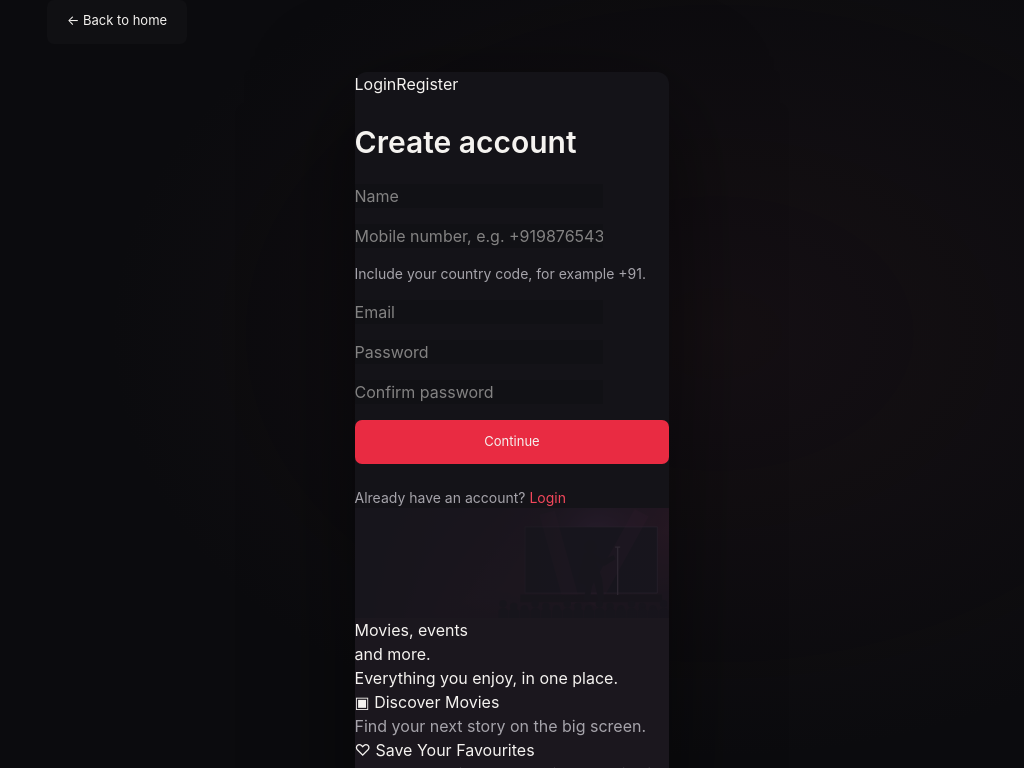
Test case: collects details first, verifies OTP on the server and requires login after success
In the field labelled "Name": (478, 196) x1=354 y1=184 x2=602 y2=208, type "Cinema Fan"
In the field labelled "Mobile number": (478, 236) x1=354 y1=224 x2=602 y2=248, type "+919876543210"
In the field labelled "Email": (478, 312) x1=354 y1=300 x2=602 y2=324, type "new@example.com"
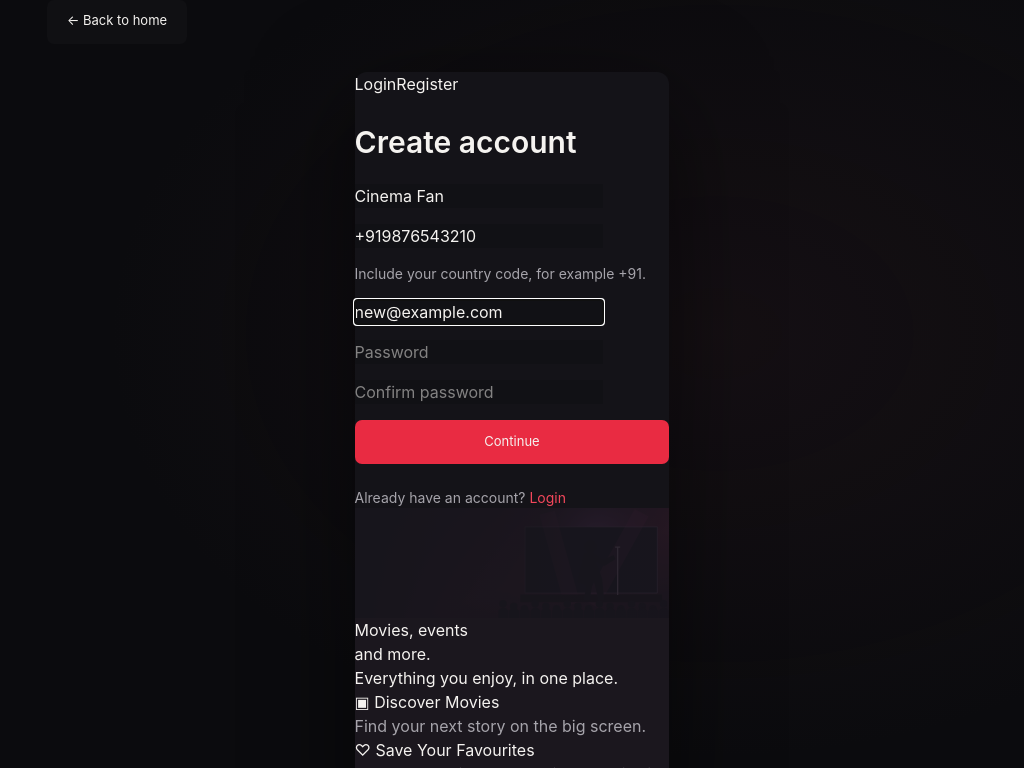
In the password field labelled "Password": (478, 352) x1=354 y1=340 x2=602 y2=364, type "safe-password-123"
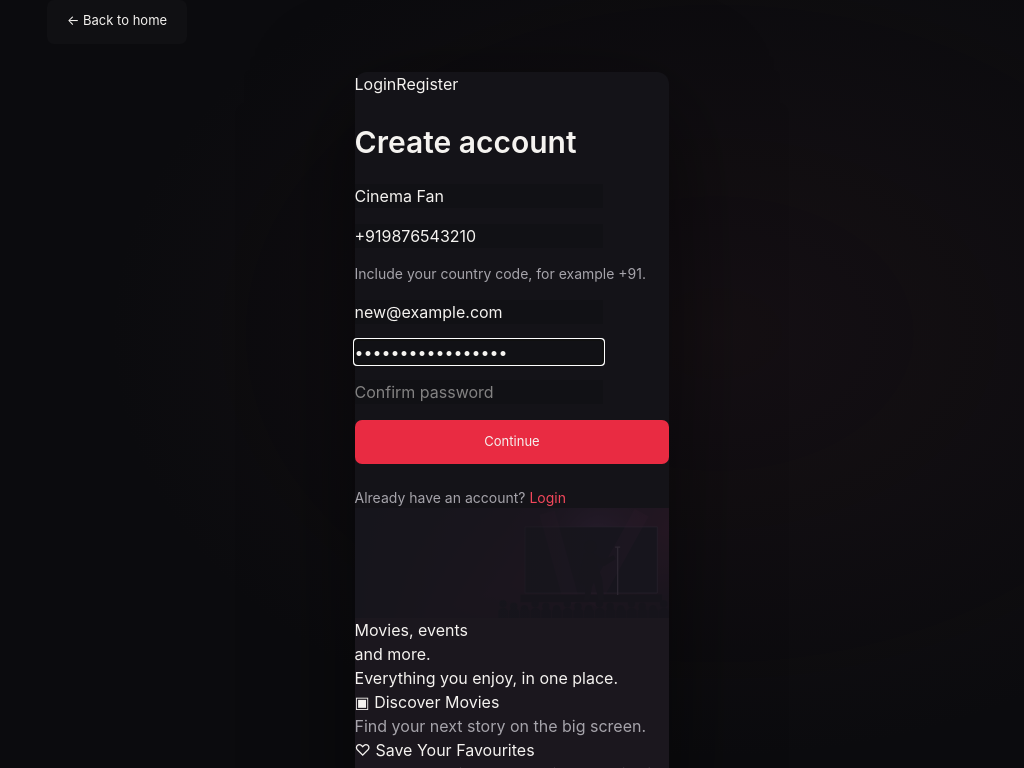
In the password field labelled "Confirm password": (478, 392) x1=354 y1=380 x2=602 y2=404, type "safe-password-123"
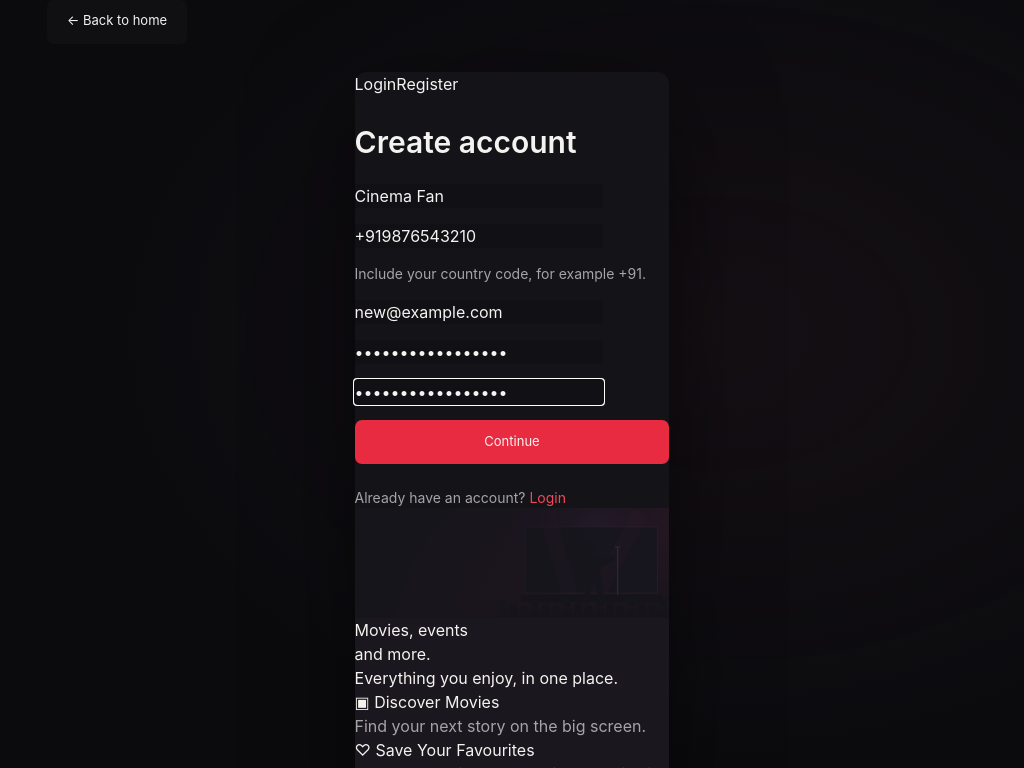
Click the button "Continue": (512, 442) x1=354 y1=420 x2=669 y2=464
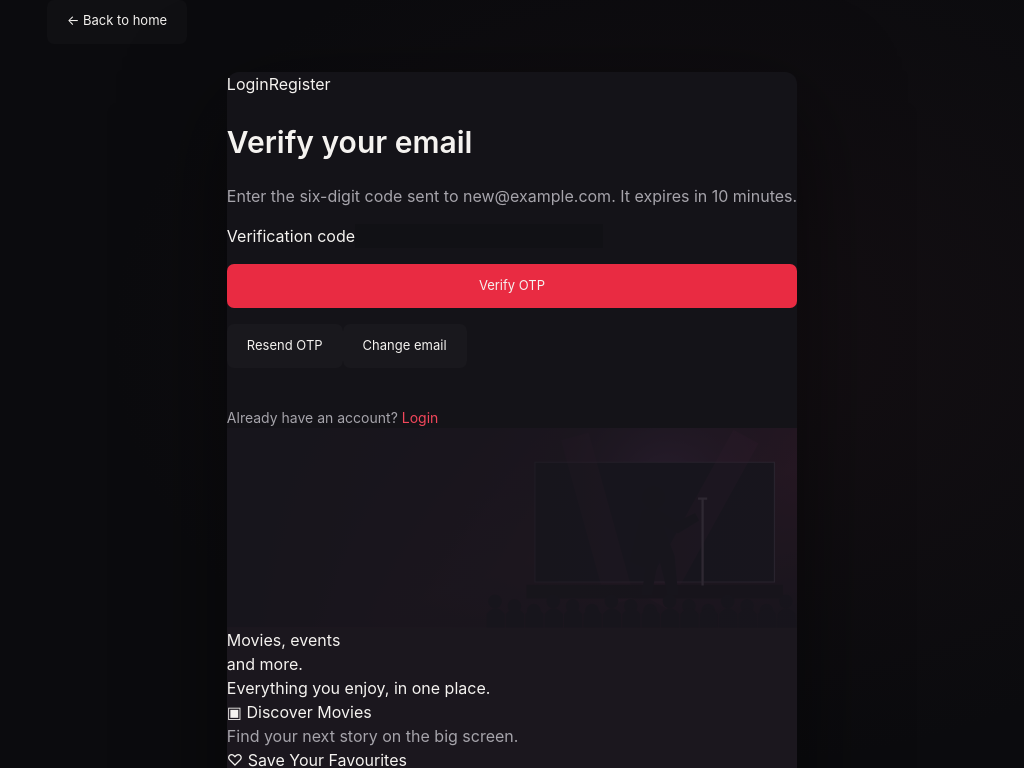
In the field labelled "Verification code": (479, 236) x1=355 y1=224 x2=603 y2=248, type "123456"
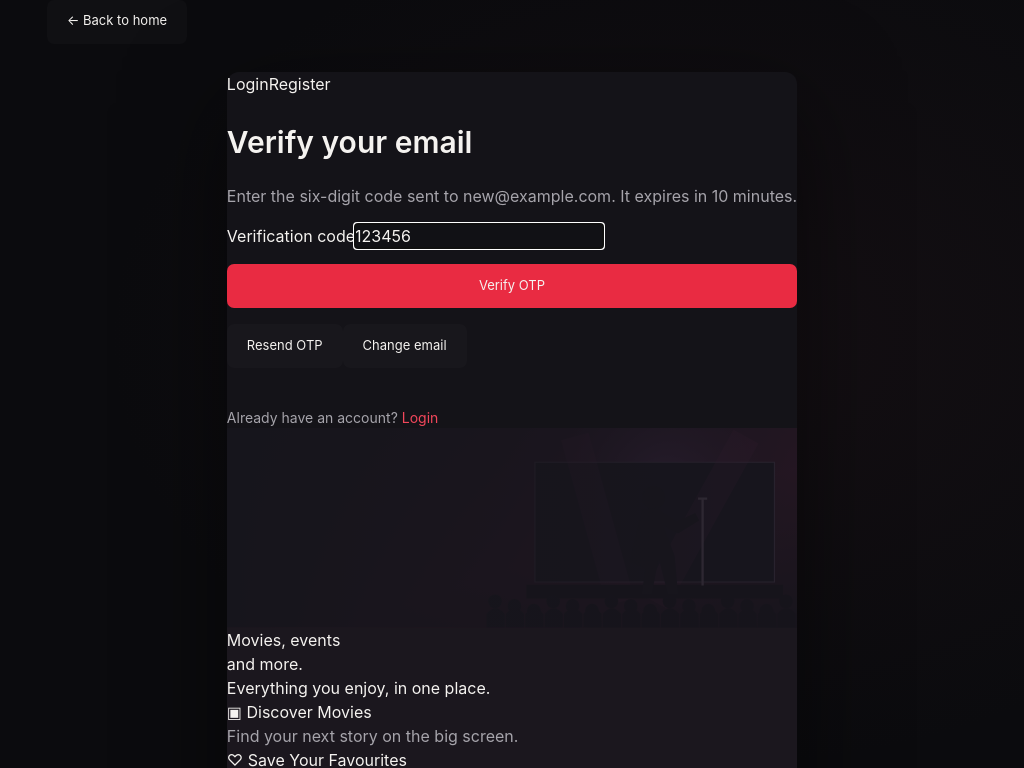
Click the button "Verify OTP": (512, 286) x1=227 y1=264 x2=797 y2=308
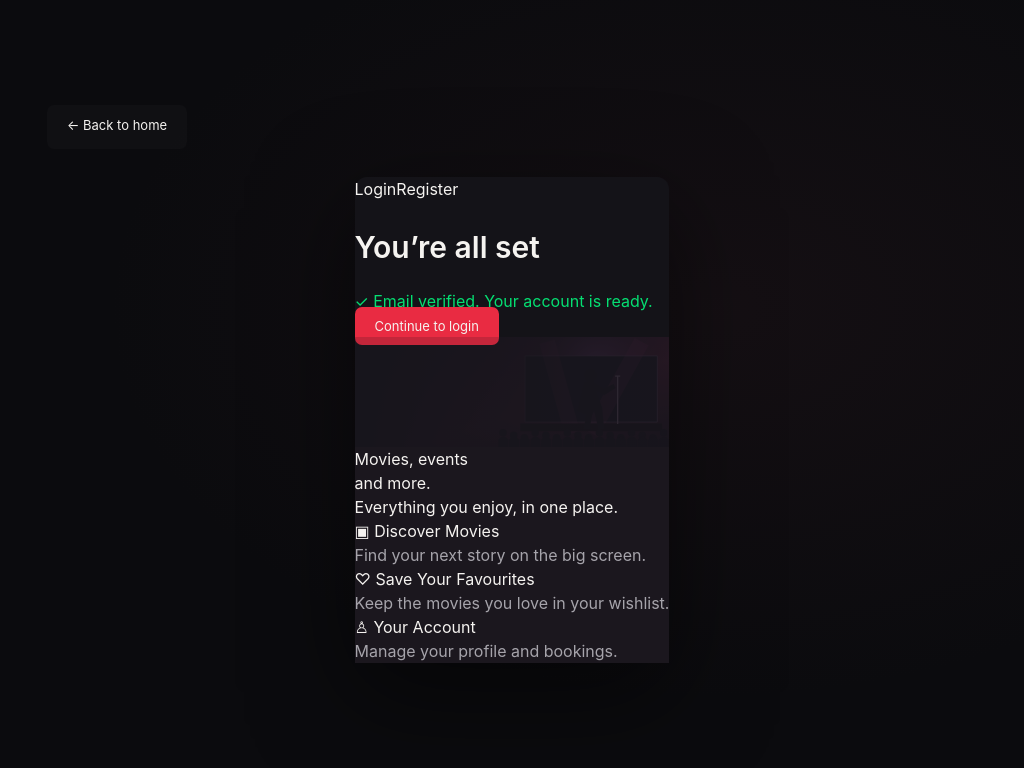
Expected: the message shows "verified", x1=354 y1=291 x2=653 y2=311
